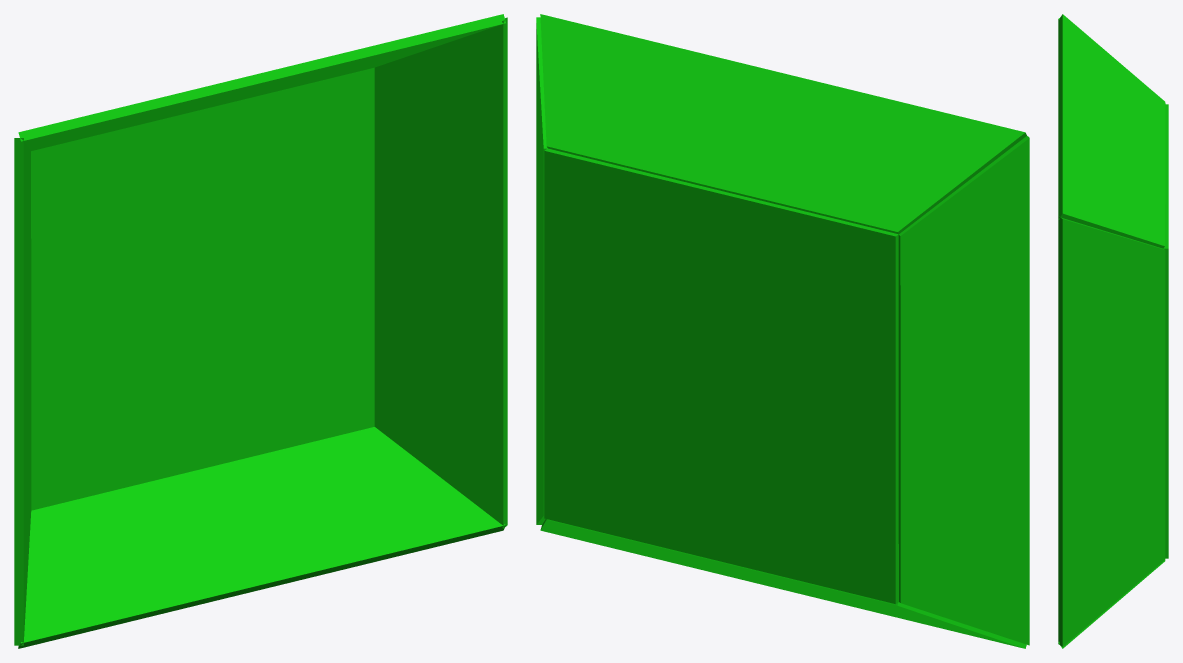
The model's file is tray_textured.obj.
3 views of the same model, side by side, from view 1: azimuth 30°, elevation 25°; view 2: azimuth 150°, elevation 25°; view 3: azimuth 270°, elevation 25° (orthographic). The views are drawn at different scales.
Parts seen in each view (by area): view 1: base_Cube.004, edge_2_Cube, edge_3_Cube.002, edge_1_Cube.003, edge_4_Cube.001; view 2: base_Cube.004, edge_4_Cube.001, edge_1_Cube.003, edge_3_Cube.002, edge_2_Cube; view 3: edge_2_Cube, edge_1_Cube.003, base_Cube.004, edge_3_Cube.002.
Boxes of the visible parts, bbox=[...] form: base_Cube.004: bbox=[31, 67, 374, 510]; edge_2_Cube: bbox=[374, 17, 507, 528]; edge_3_Cube.002: bbox=[18, 427, 505, 648]; edge_1_Cube.003: bbox=[18, 14, 505, 150]; edge_4_Cube.001: bbox=[14, 138, 31, 645]; base_Cube.004: bbox=[544, 148, 898, 604]; edge_4_Cube.001: bbox=[898, 136, 1029, 645]; edge_1_Cube.003: bbox=[540, 14, 1026, 234]; edge_3_Cube.002: bbox=[540, 519, 1026, 648]; edge_2_Cube: bbox=[536, 17, 547, 524]; edge_2_Cube: bbox=[1058, 216, 1165, 646]; edge_1_Cube.003: bbox=[1058, 14, 1165, 248]; base_Cube.004: bbox=[1163, 104, 1168, 558]; edge_3_Cube.002: bbox=[1058, 560, 1165, 648].
Bounding box in the file's own units: 1.18 × 1.18 × 0.2712.
